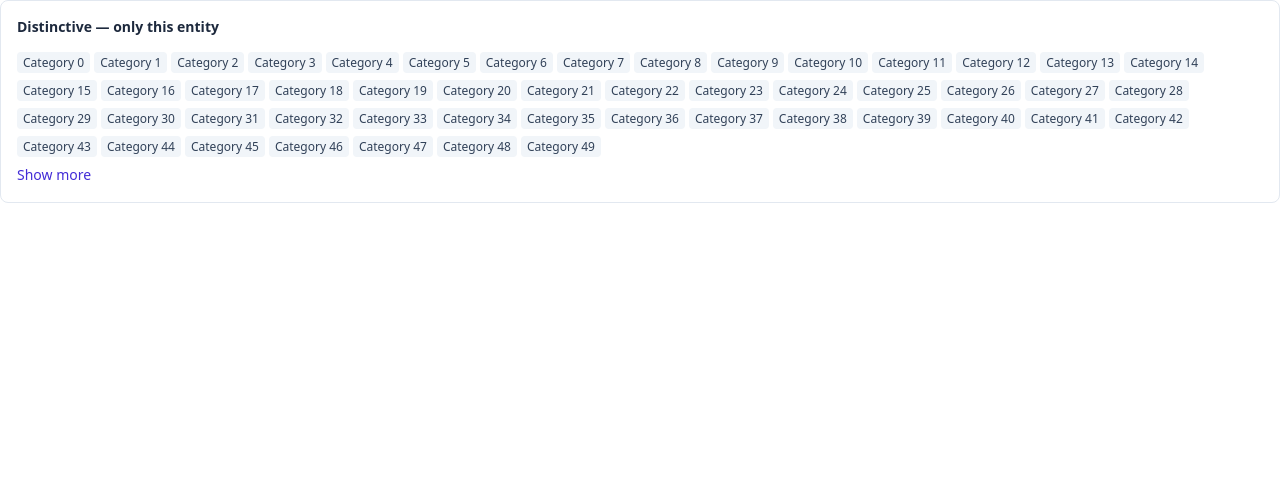
Test case: DistinctiveCategoriesPanel (Feature 089) › show more › requests a further tranche, then hides at the ceiling
The width and height of the screenshot is (1280, 499).
Click the button "Show more" at [54, 175], box [17,165,91,185]
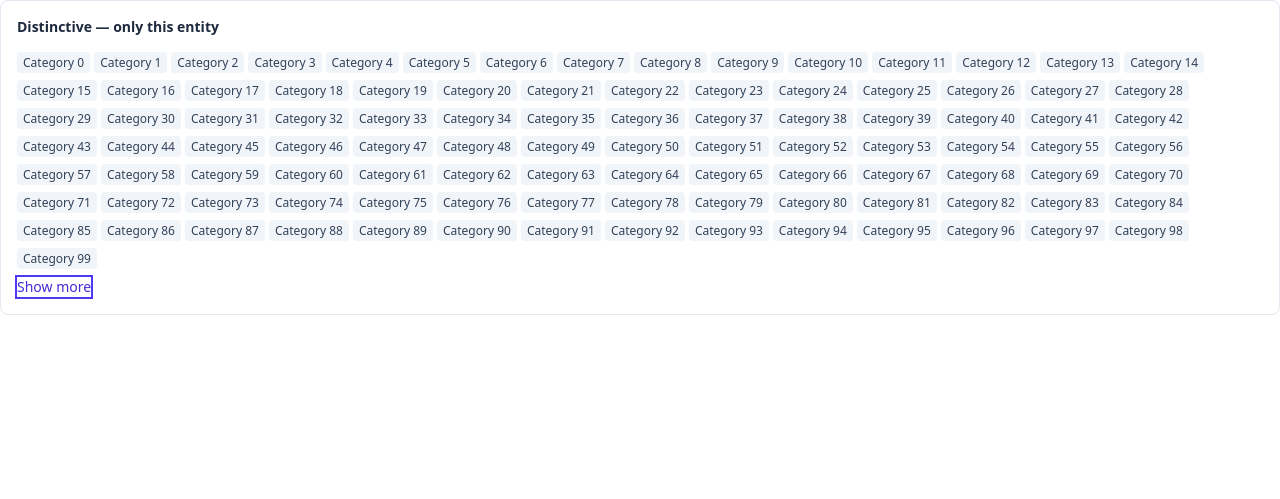
Click the button "Show more" at [54, 287], box [17,277,91,297]
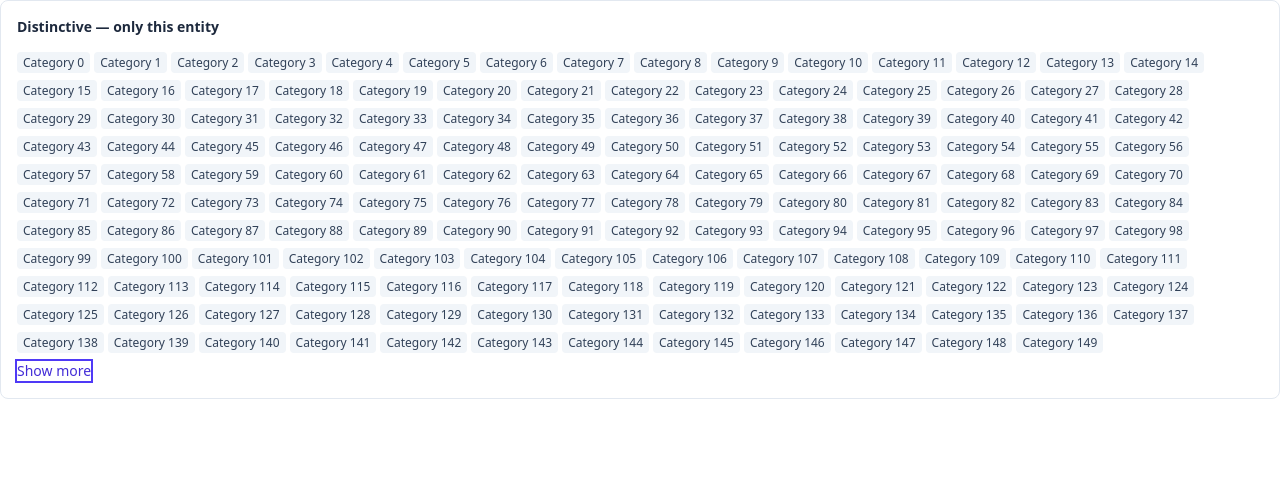
Click the button "Show more" at [54, 371], box [17,361,91,381]
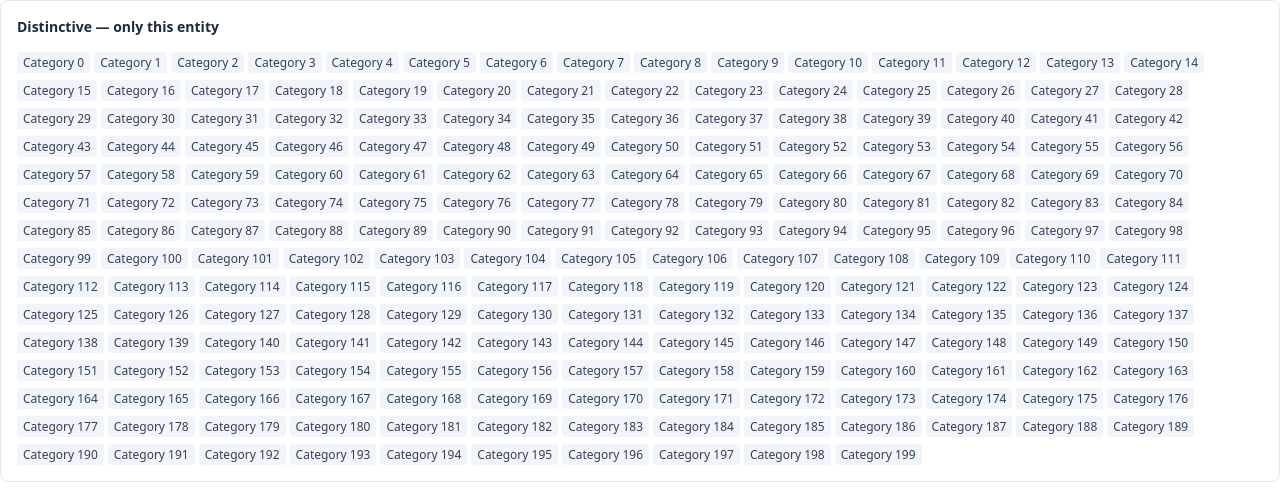
Expected: the button "Show more" is gone
